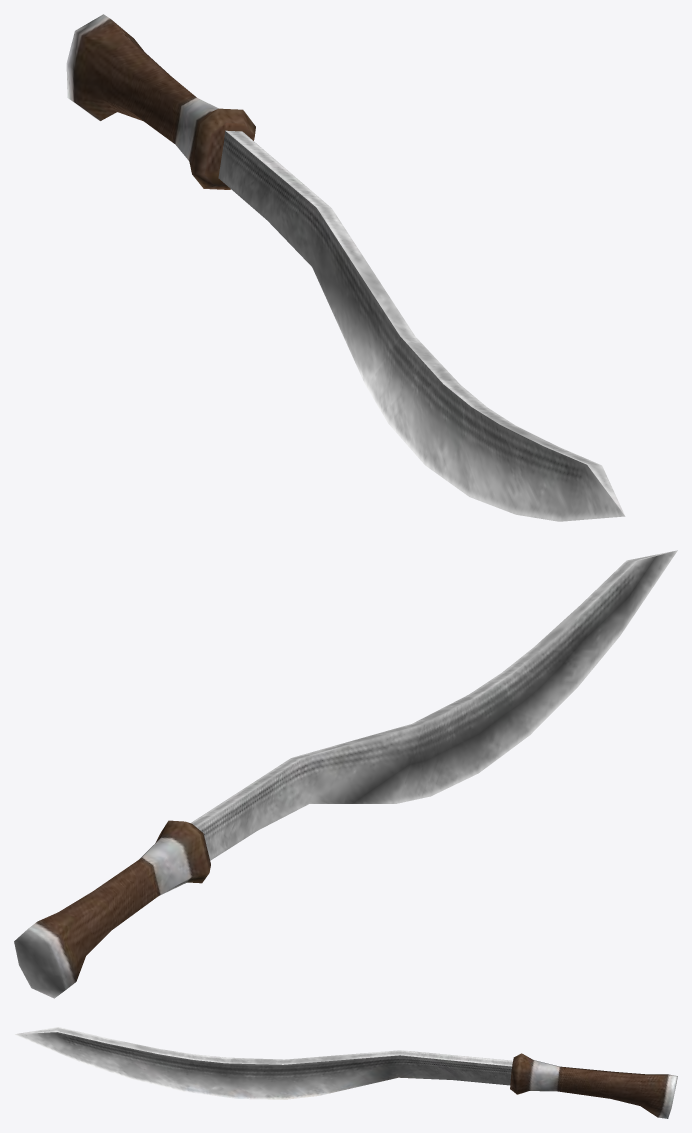
File: rider-weapon-slice-bronzeweapons.glb
3 renders of one model, top to bottom at view 1: azimuth 30°, elevation 25°; view 2: azimuth 150°, elevation 25°; view 3: azimuth 270°, elevation 25°, orthographic. The views are drawn at different scales.
Size of the model in its own units: 0.1538 by 0.1242 by 1.1.
Materials: 1 (1 with a texture image).
